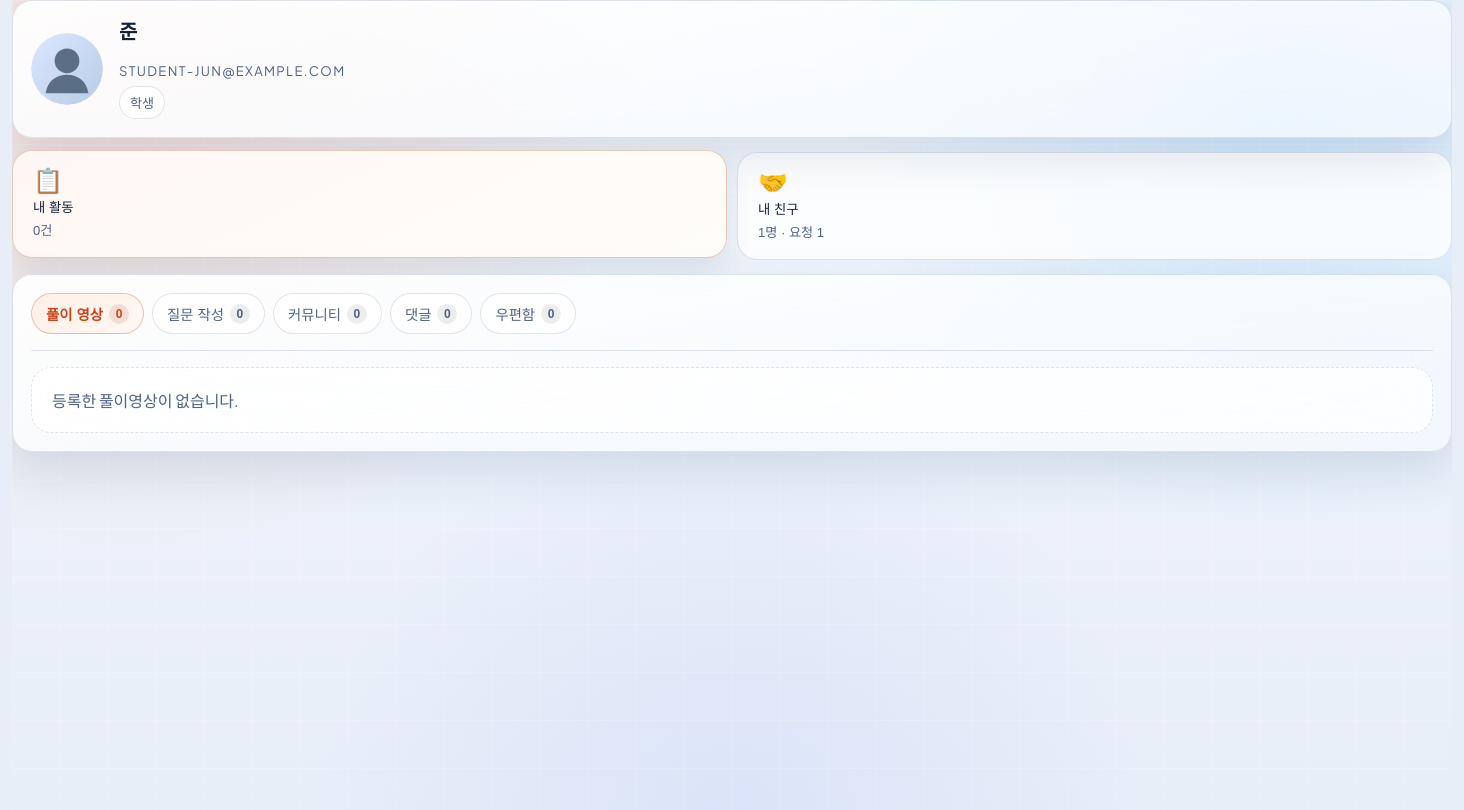
Test: ProfilePanel (unit) › 친구 탭에서 받은 친구 요청 건수를 표시한다
What coordinates should you click on to do the following:
click the tab "🤝 내 친구 1명 · 요청 1"
I would click on:
 (778, 210)
Its box is [737,152,1452,260].
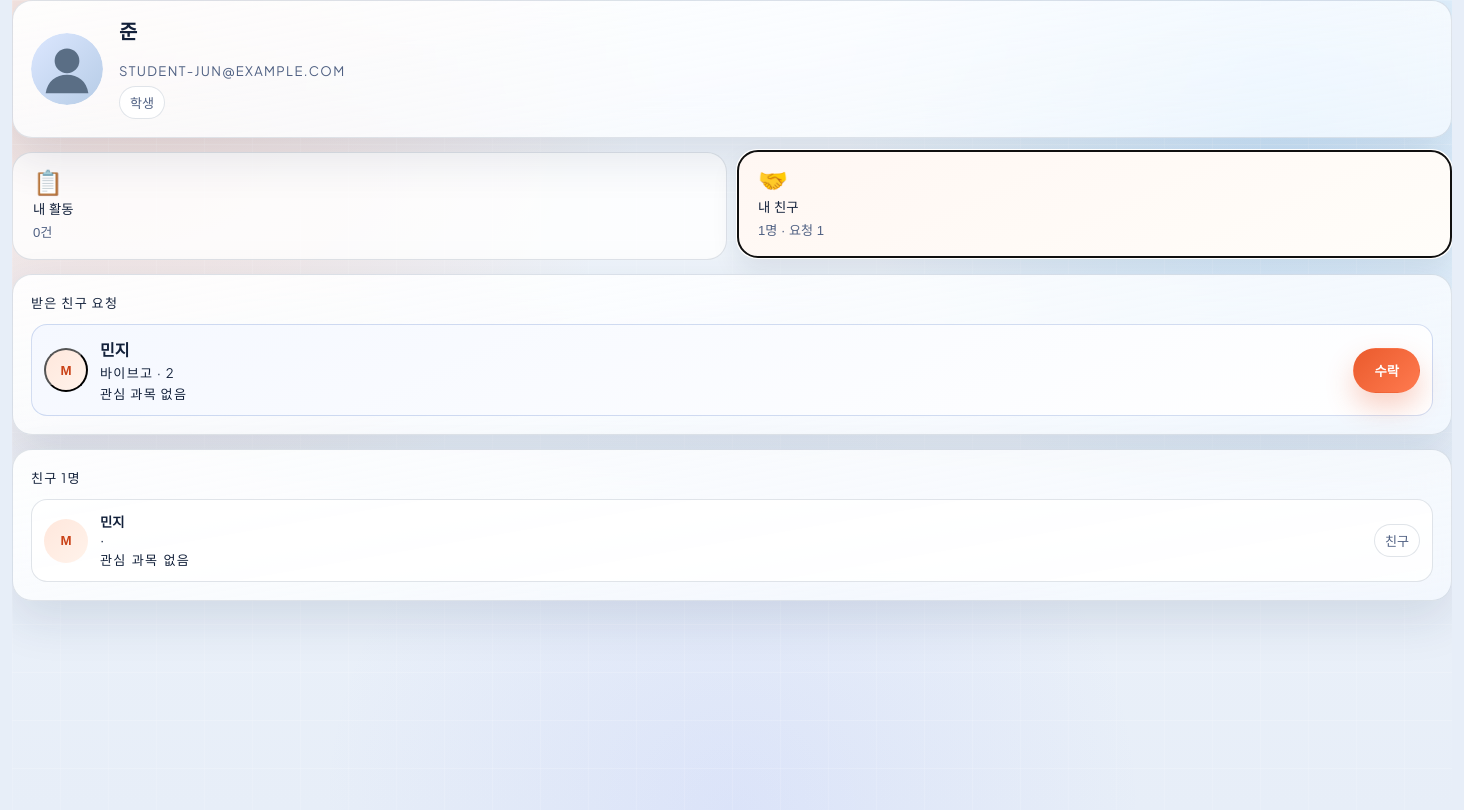
Check: the text "받은 친구 요청" is shown, box [31,294,118,311]
